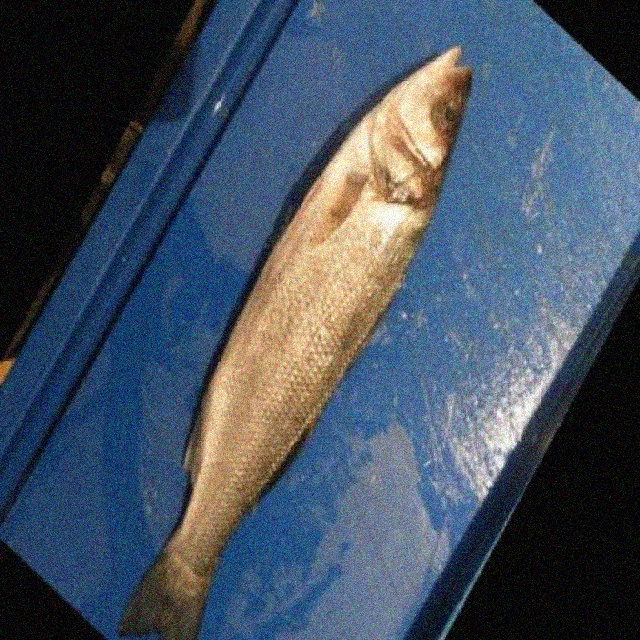Healthy Fish: (74, 42, 515, 640)
